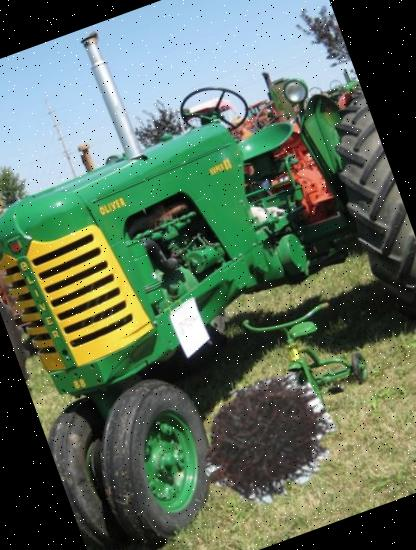Rambutan: (180, 356, 354, 530)
